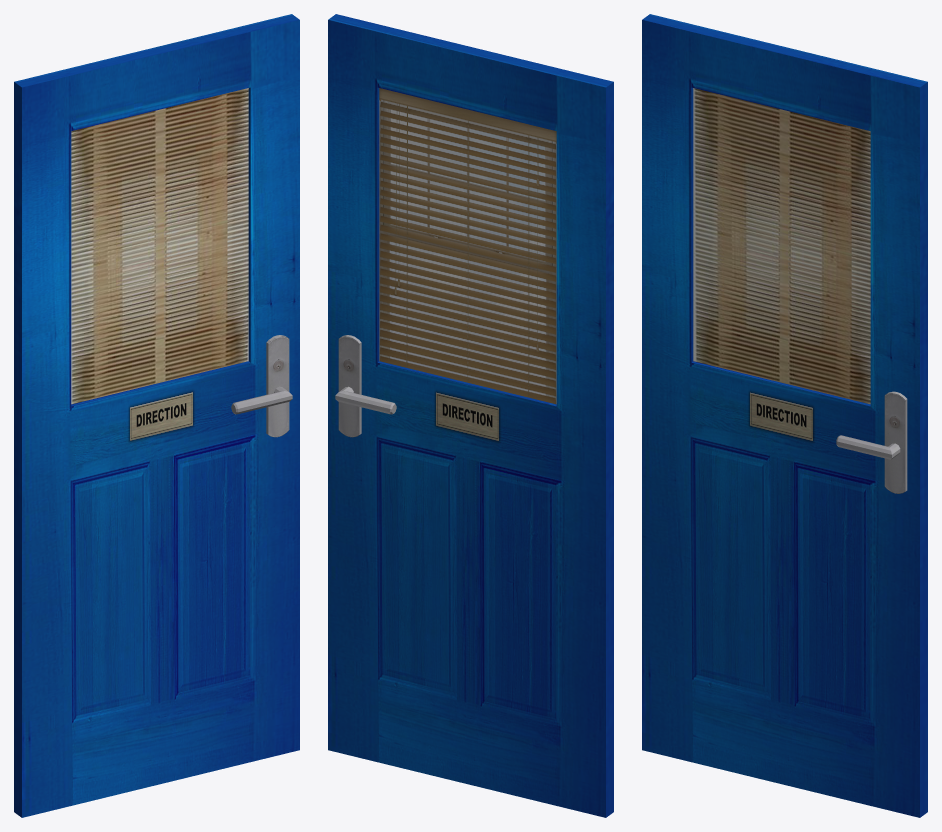
Rendered from Door_direction.fbx.
3 views of the same model, side by side, from view 1: azimuth 30°, elevation 25°; view 2: azimuth 150°, elevation 25°; view 3: azimuth 330°, elevation 25° (orthographic).
Visible parts, largest first — view 1: porte_basique, Cylinder; view 2: porte_basique, Cylinder; view 3: porte_basique, Cylinder.
Part boxes in pixels (<box>): porte_basique: <box>14,14,299,817</box>; Cylinder: <box>231,386,292,414</box>; porte_basique: <box>328,14,613,817</box>; Cylinder: <box>335,386,396,414</box>; porte_basique: <box>642,14,927,817</box>; Cylinder: <box>836,435,900,459</box>.
Size of the model in its own units: 80.95 by 203 by 14.55.
